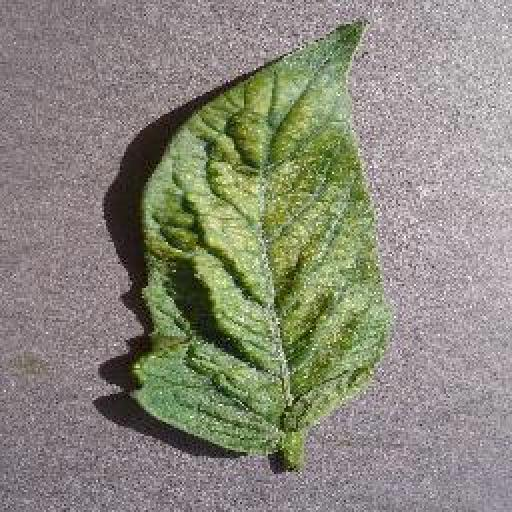disease_tomato: (131, 16, 389, 448)
